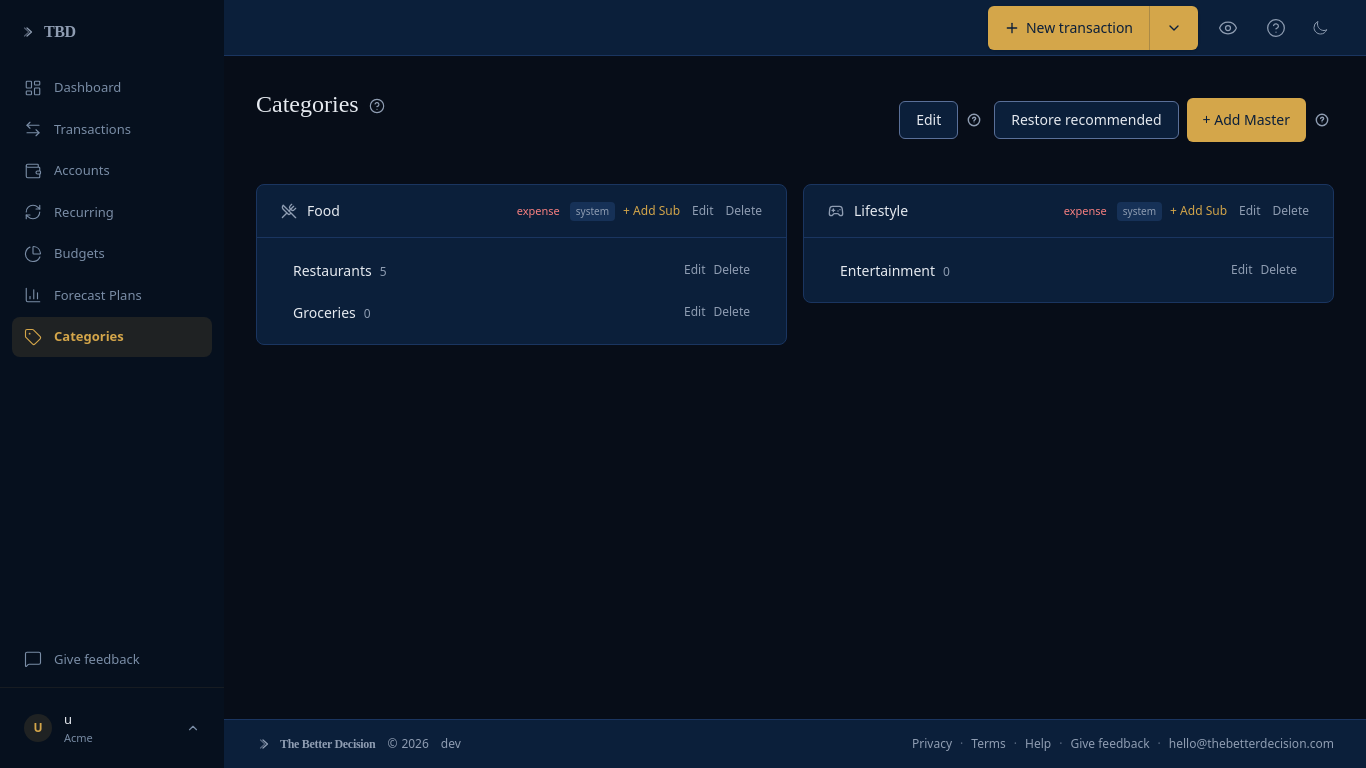
CategoriesPage -C2 Edit mode + batch select › Cancel Edit hides checkboxes and clears selection
Expected: the text "Restaurants" is shown, [293,261,372,280]
Click the button with test id "categories-edit-toggle": (929, 120) [899,101,958,139]
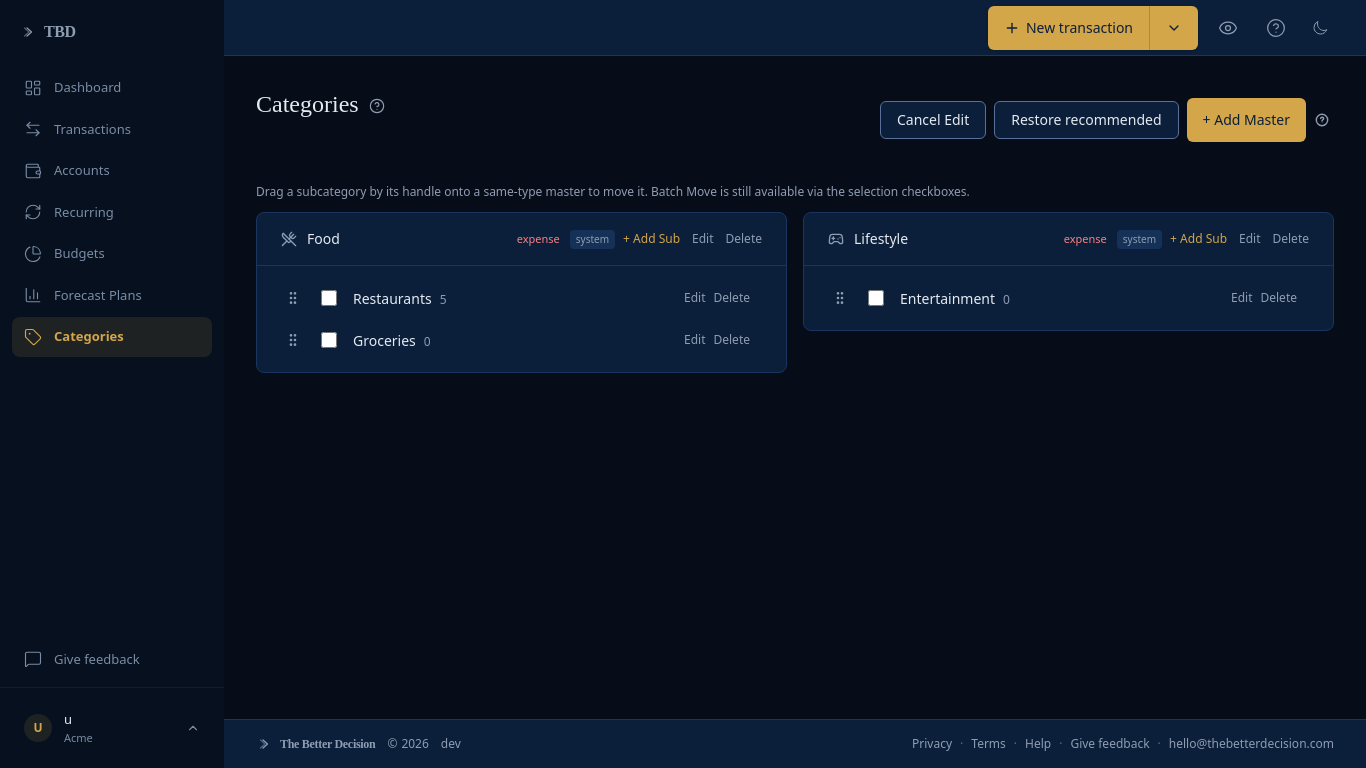
Click the checkbox with test id "sub-checkbox-101": (329, 298) [321,290,337,306]
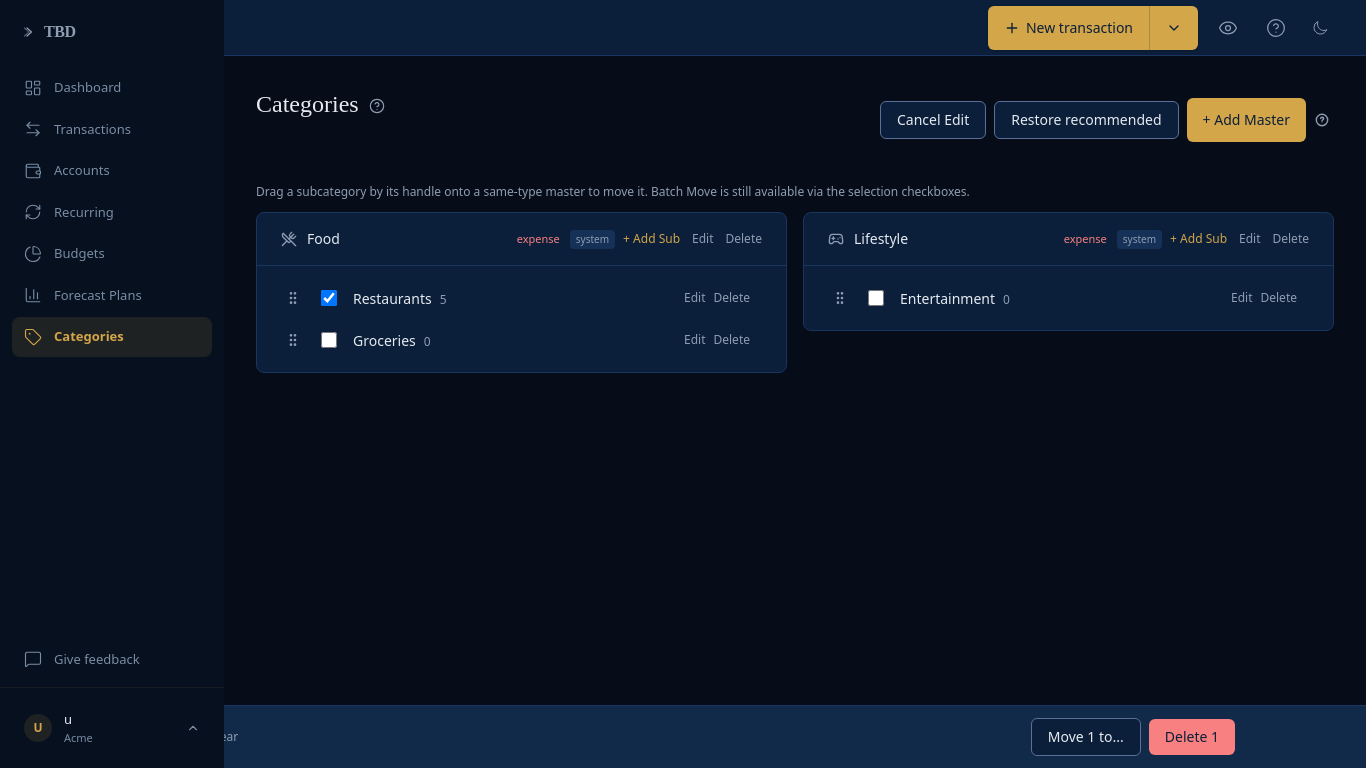
Expected: the element with test id "batch-action-bar" is shown, [0,705,1365,767]
Click the button with test id "categories-edit-toggle": (933, 120) [880,101,986,139]
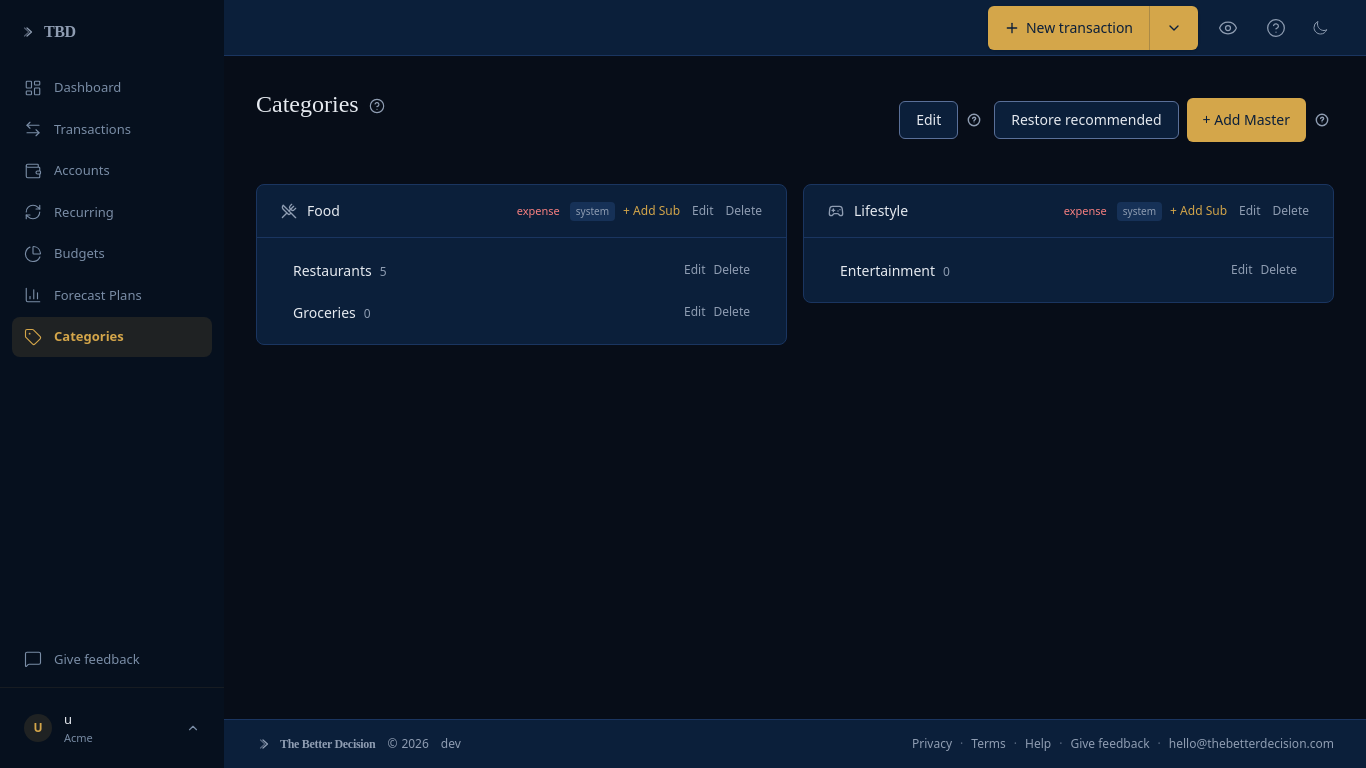
Expected: the checkbox with test id "sub-checkbox-101" is gone
Expected: the element with test id "batch-action-bar" is gone
